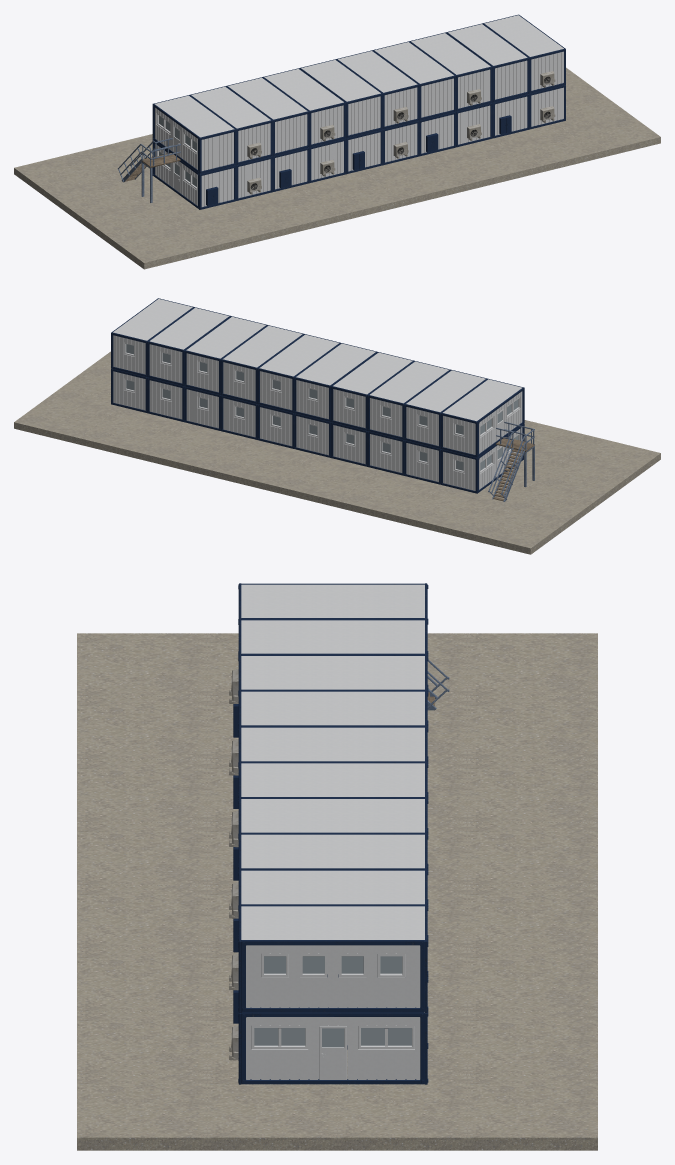
Rendered from construction-site.glb.
The picture shows the model from 3 angles, top to bottom: view 1: azimuth 30°, elevation 25°; view 2: azimuth 150°, elevation 25°; view 3: azimuth 270°, elevation 25°; orthographic projection. The views are drawn at different scales.
Visible parts, largest first — view 1: taslak.001, taslak.001_bina_0.001, taslak.001_bina_0.002; view 2: taslak.001, taslak.001_bina_0.001, taslak.001_bina_0.002; view 3: taslak.001, taslak.001_bina_0.001, taslak.001_bina_0.002.
Boxes of the visible parts, left/top/right/bottom form: taslak.001: left=14, top=14, right=660, bottom=269; taslak.001_bina_0.001: left=152, top=50, right=455, bottom=209; taslak.001_bina_0.002: left=299, top=50, right=481, bottom=174; taslak.001: left=14, top=298, right=660, bottom=554; taslak.001_bina_0.001: left=221, top=334, right=524, bottom=493; taslak.001_bina_0.002: left=221, top=334, right=377, bottom=457; taslak.001: left=77, top=584, right=597, bottom=1150; taslak.001_bina_0.001: left=229, top=583, right=428, bottom=847; taslak.001_bina_0.002: left=229, top=726, right=428, bottom=918.
Size of the model in its own units: 30.04 by 4.34 by 13.11.
2 materials, 2 textured.
